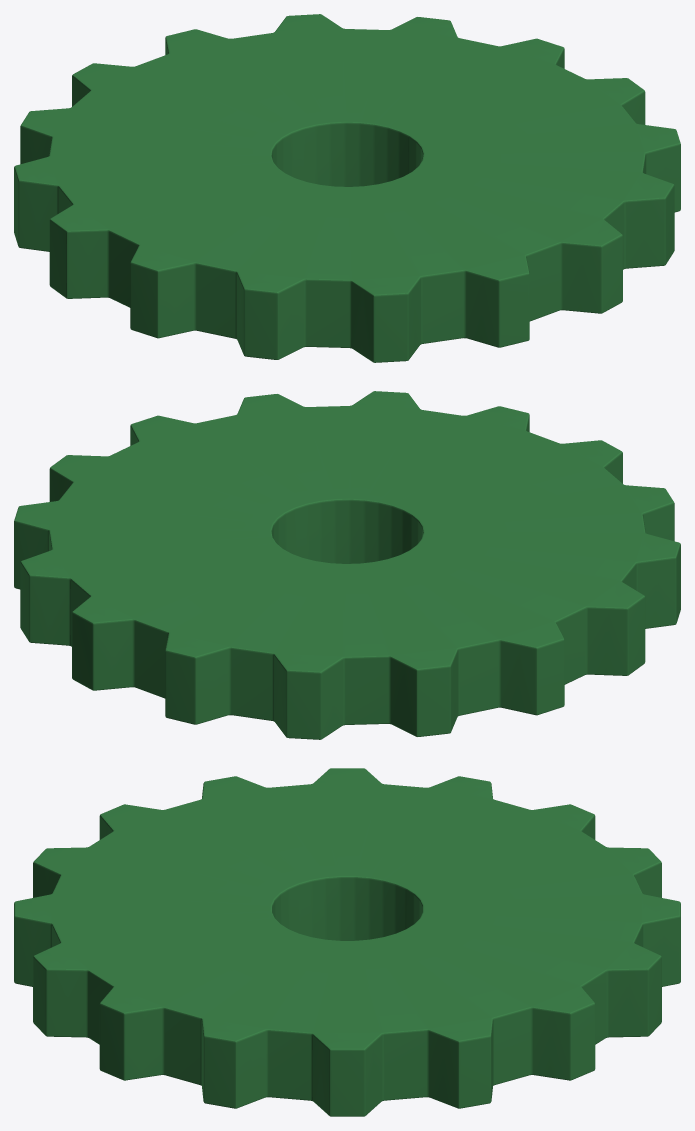
File: Gear_16T.fbx
The picture shows the model from 3 angles, top to bottom: view 1: azimuth 30°, elevation 25°; view 2: azimuth 150°, elevation 25°; view 3: azimuth 270°, elevation 25°; orthographic projection.
Parts seen in each view (by area): view 1: Gear_16T; view 2: Gear_16T; view 3: Gear_16T.
Part boxes in pixels (x1,y1,x2,y2): Gear_16T: (14, 14, 680, 362); Gear_16T: (14, 391, 680, 739); Gear_16T: (14, 768, 680, 1116).
Size of the model in its own units: 8.85 by 1 by 8.85.
